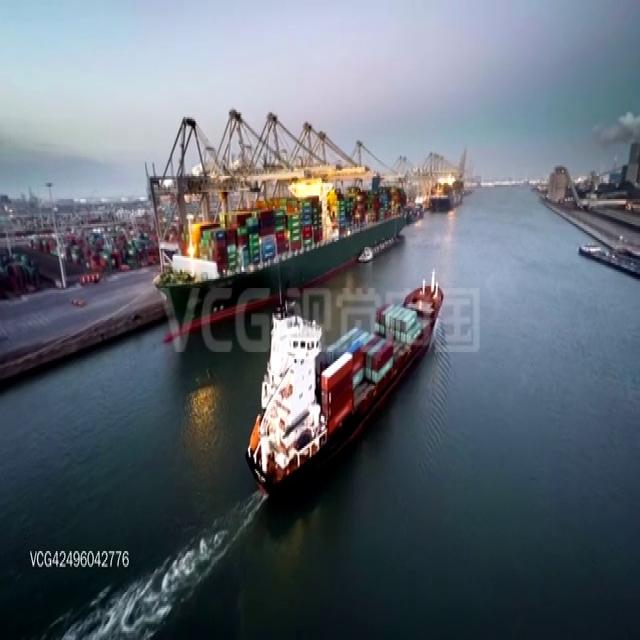cargoship: (130, 156, 423, 285), (251, 305, 464, 477)
